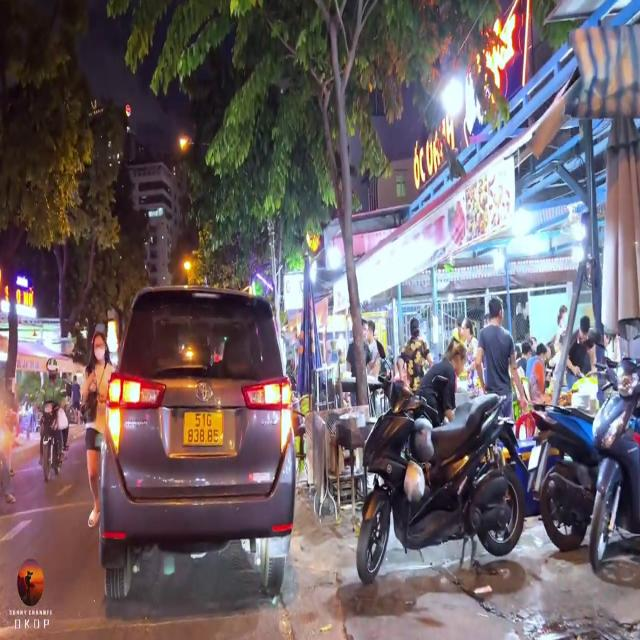bien_vang: (182, 410, 225, 446)
